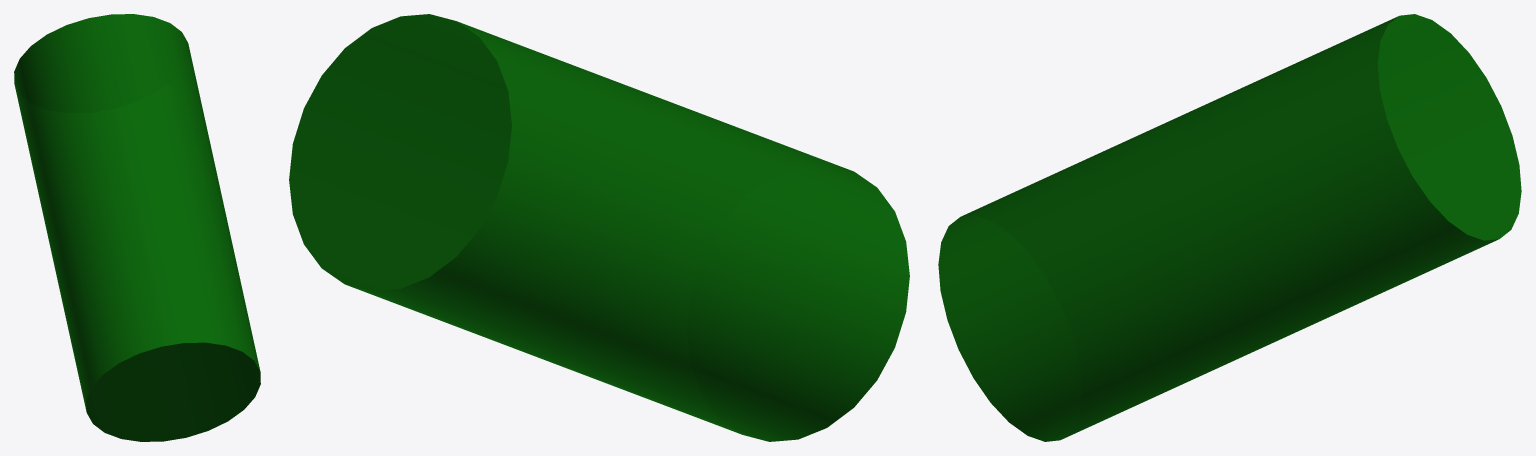
Rendered from Event_134586304_jet_3.fbx.
The picture shows the model from 3 angles, left to right: view 1: azimuth 30°, elevation 25°; view 2: azimuth 150°, elevation 25°; view 3: azimuth 270°, elevation 25°; orthographic projection. The views are drawn at different scales.
Parts seen in each view (by area): view 1: Model; view 2: Model; view 3: Model.
Part boxes in pixels (x1,y1,x2,y2): Model: (14, 14, 260, 441); Model: (289, 14, 909, 441); Model: (938, 14, 1521, 441).
Bounding box in the file's own units: 0.0613 × 0.0808 × 0.0953.
